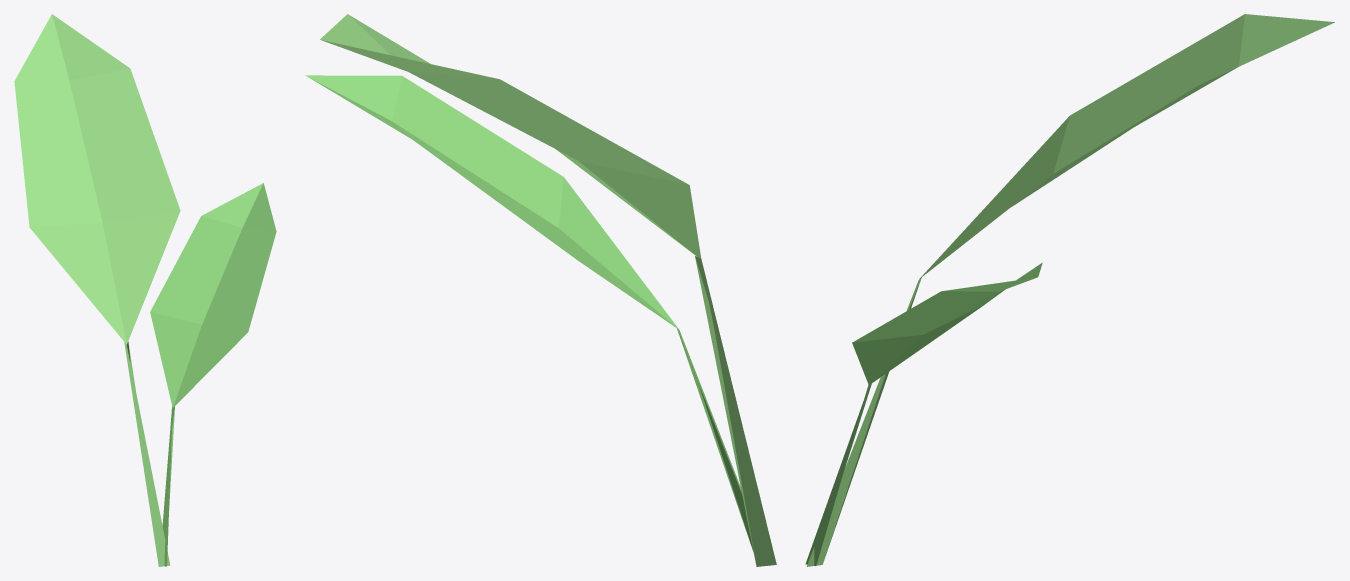
File: Plant_j_OneS_07.fbx
3 renders of one model, left to right at view 1: azimuth 30°, elevation 25°; view 2: azimuth 150°, elevation 25°; view 3: azimuth 270°, elevation 25°, orthographic. The views are drawn at different scales.
Visible parts, largest first — view 1: Plant_j_OneS_07; view 2: Plant_j_OneS_07; view 3: Plant_j_OneS_07.
Part boxes in pixels (box(x1,y1,x2,y2)): Plant_j_OneS_07: box(14, 14, 276, 566); Plant_j_OneS_07: box(305, 14, 776, 566); Plant_j_OneS_07: box(805, 14, 1334, 566).
Bounding box in the file's own units: 14.02 × 24.22 × 19.74.
